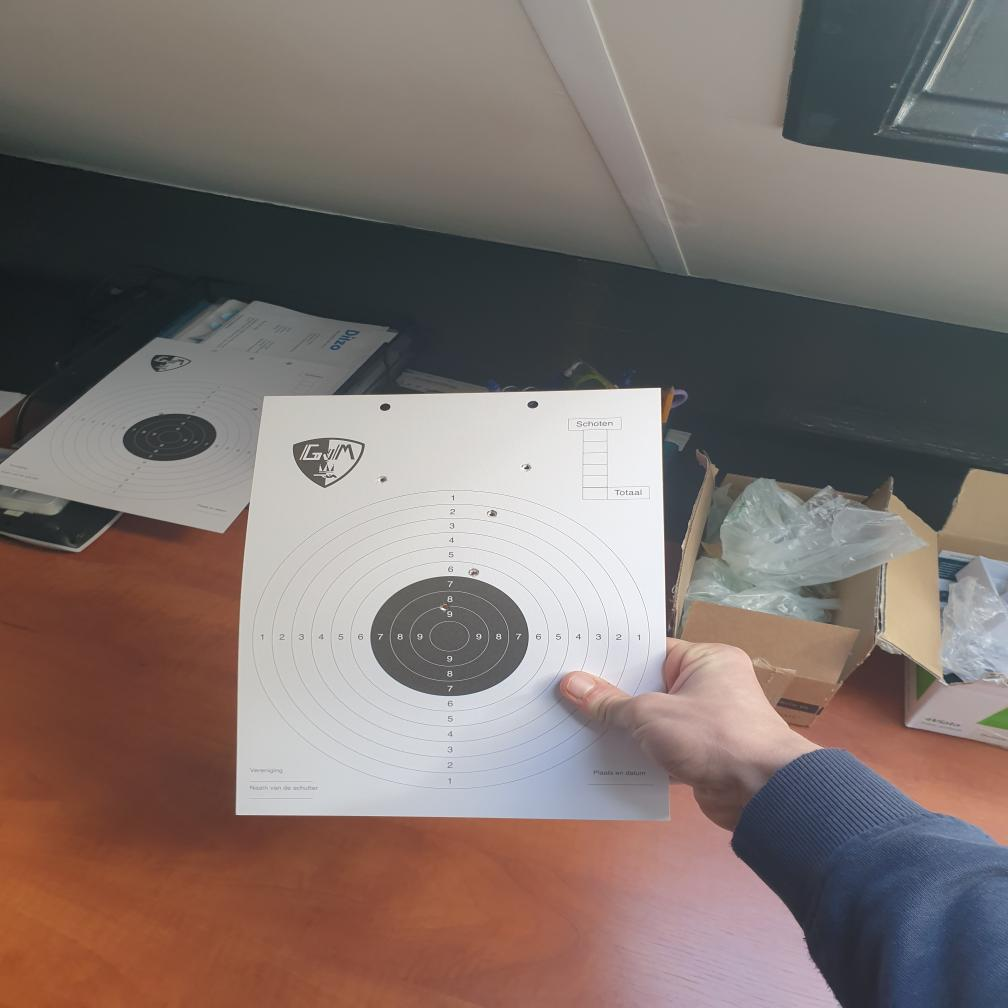0: (520, 462, 533, 473), (375, 476, 390, 484)
2: (485, 509, 498, 519)
6: (463, 567, 481, 579)
9: (438, 602, 451, 611)
Target: (250, 489, 652, 792)
black_contour: (369, 576, 530, 696)
